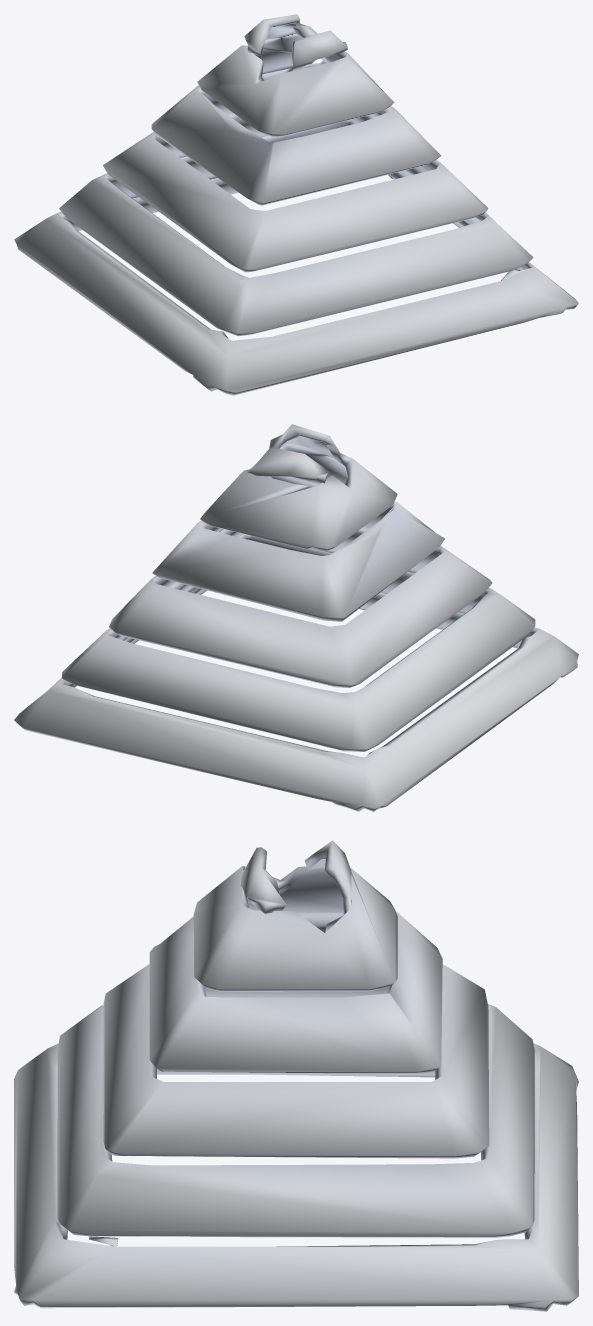
Rendered from tower.chronicle.snow.glb.
3 views of the same model, one above another, from view 1: azimuth 30°, elevation 25°; view 2: azimuth 150°, elevation 25°; view 3: azimuth 270°, elevation 25° (orthographic). The views are drawn at different scales.
Parts seen in each view (by area): view 1: town.tower.chronicle.snow.mesh; view 2: town.tower.chronicle.snow.mesh; view 3: town.tower.chronicle.snow.mesh.
Part boxes in pixels (x1,y1,x2,y2): town.tower.chronicle.snow.mesh: (14, 14, 578, 395); town.tower.chronicle.snow.mesh: (14, 424, 578, 811); town.tower.chronicle.snow.mesh: (14, 840, 578, 1311).
Size of the model in its own units: 3.03 by 2.01 by 3.02.
